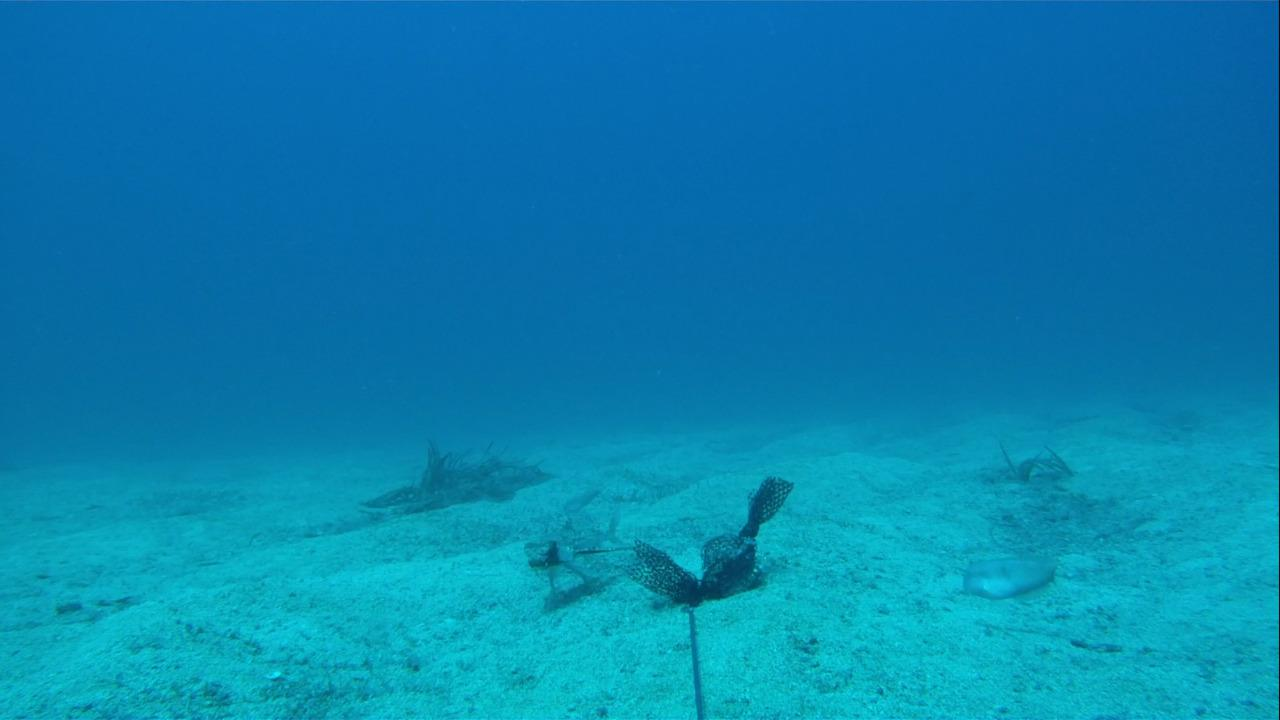dactylopterus: (513, 514, 640, 607)
raor: (952, 546, 1069, 602)
